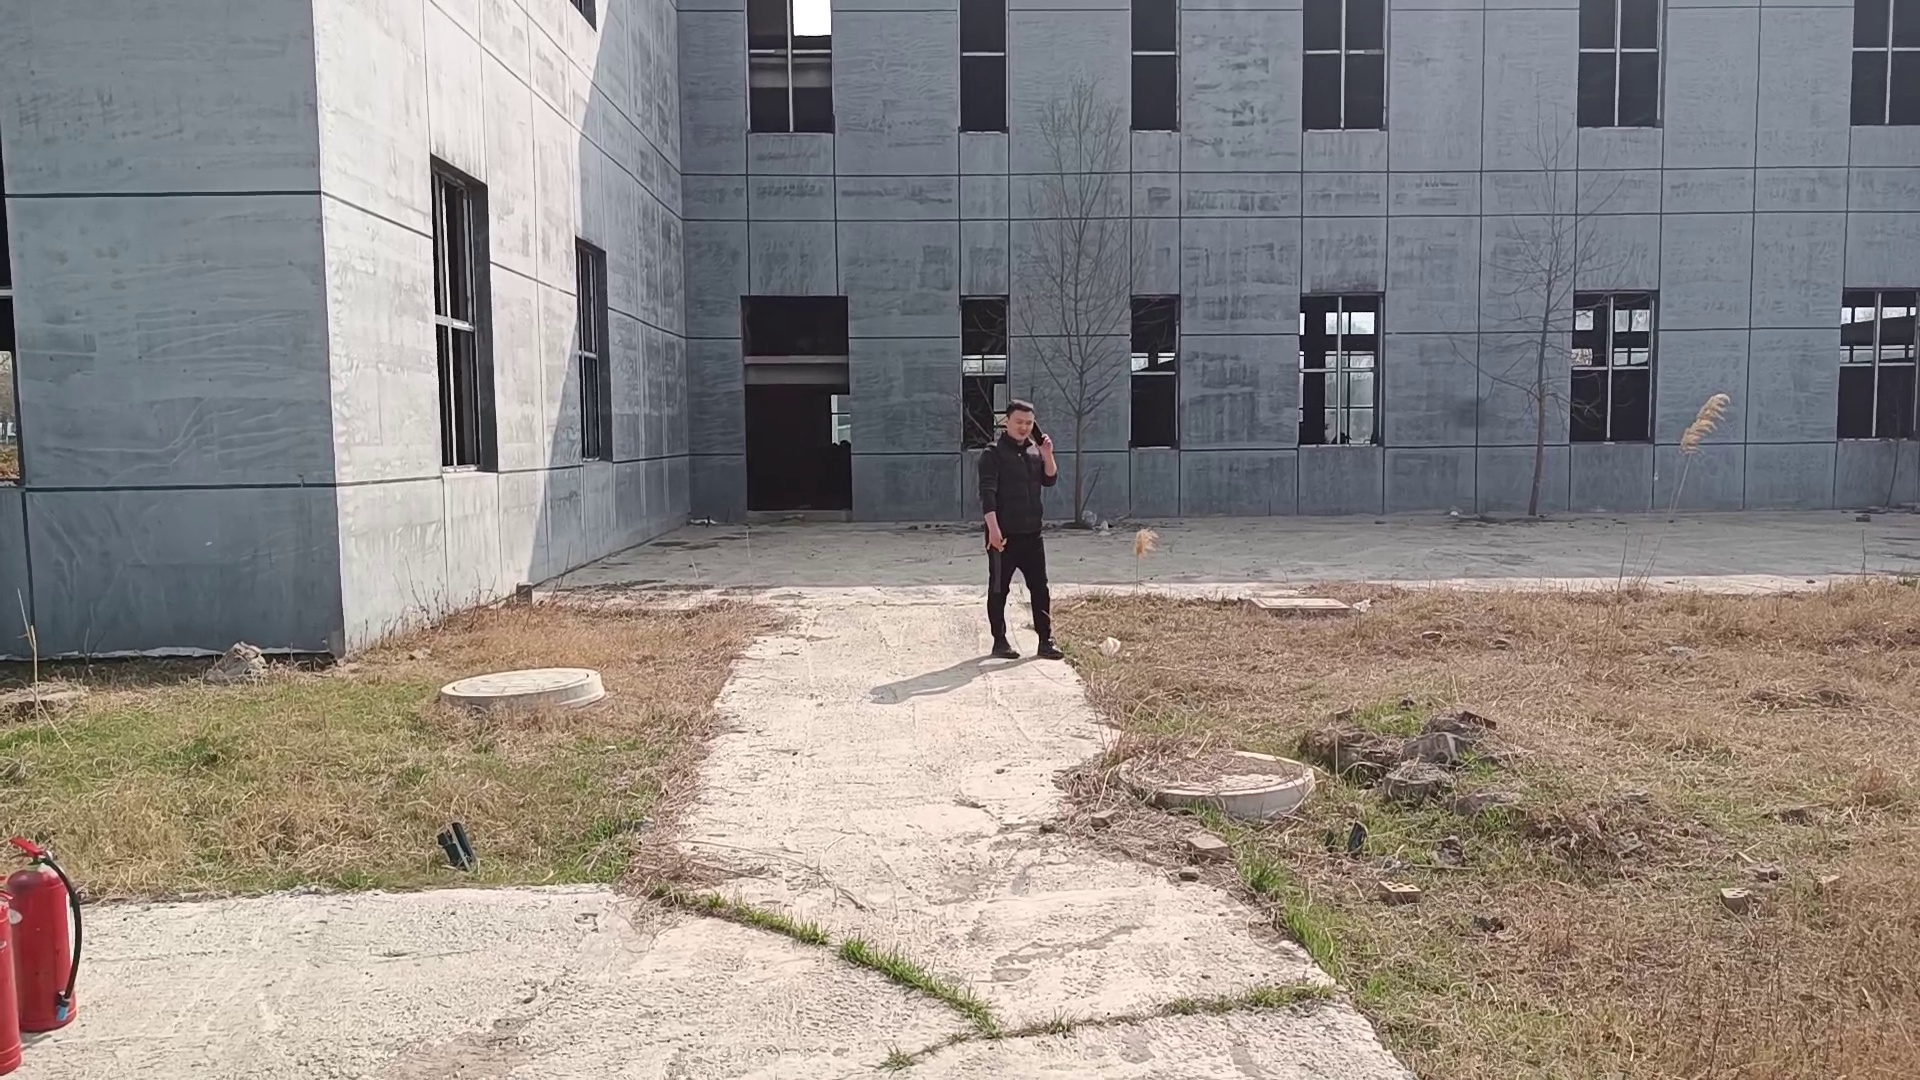phone: (989, 396, 1054, 458)
